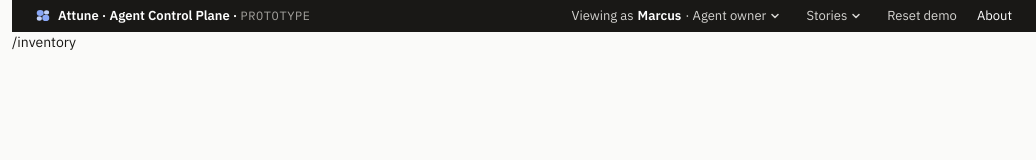
Test: Reset demo also ends the story
Click the button "Reset demo" at (922, 16), box left=881, top=4, right=963, bottom=28
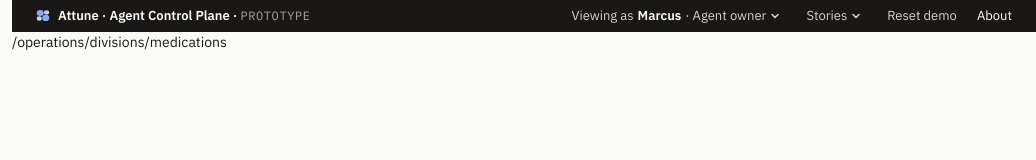
Now the text named "location" reads "/operations/divisions/medications", box left=12, top=33, right=227, bottom=51
